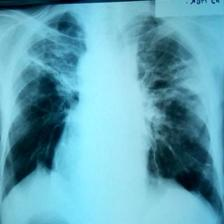tuberculosis: (2, 9, 224, 224)
